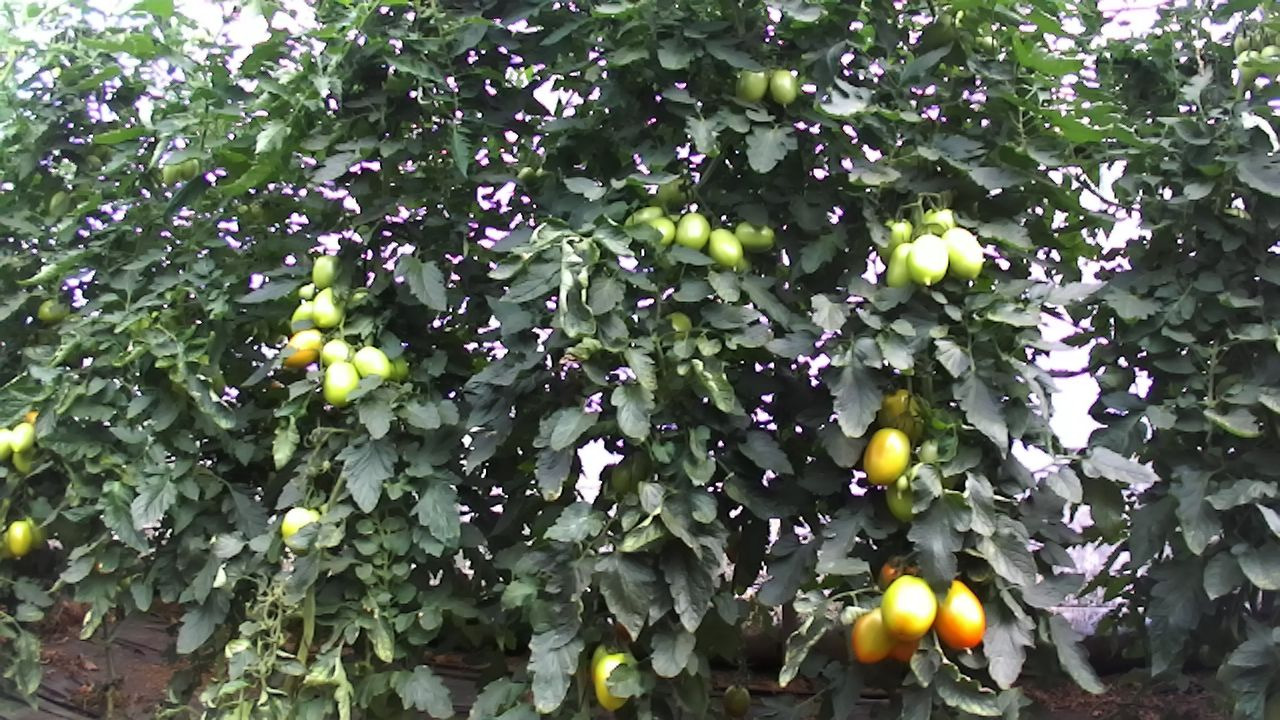tomato: (879, 570, 941, 645), (932, 576, 988, 654), (860, 426, 912, 487), (849, 604, 899, 667), (591, 649, 634, 716), (904, 230, 950, 290), (940, 224, 985, 282), (319, 359, 362, 411), (672, 209, 713, 253), (732, 61, 772, 106), (705, 226, 746, 269), (310, 284, 345, 329), (351, 344, 392, 382), (734, 219, 777, 254), (766, 67, 799, 107), (309, 253, 344, 290), (6, 517, 34, 558), (719, 683, 751, 718), (6, 421, 37, 455)
